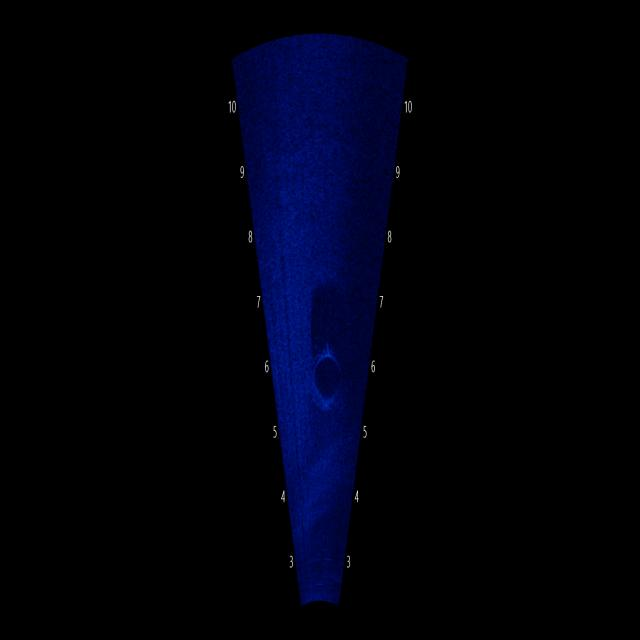circle: (293, 320, 356, 426)
